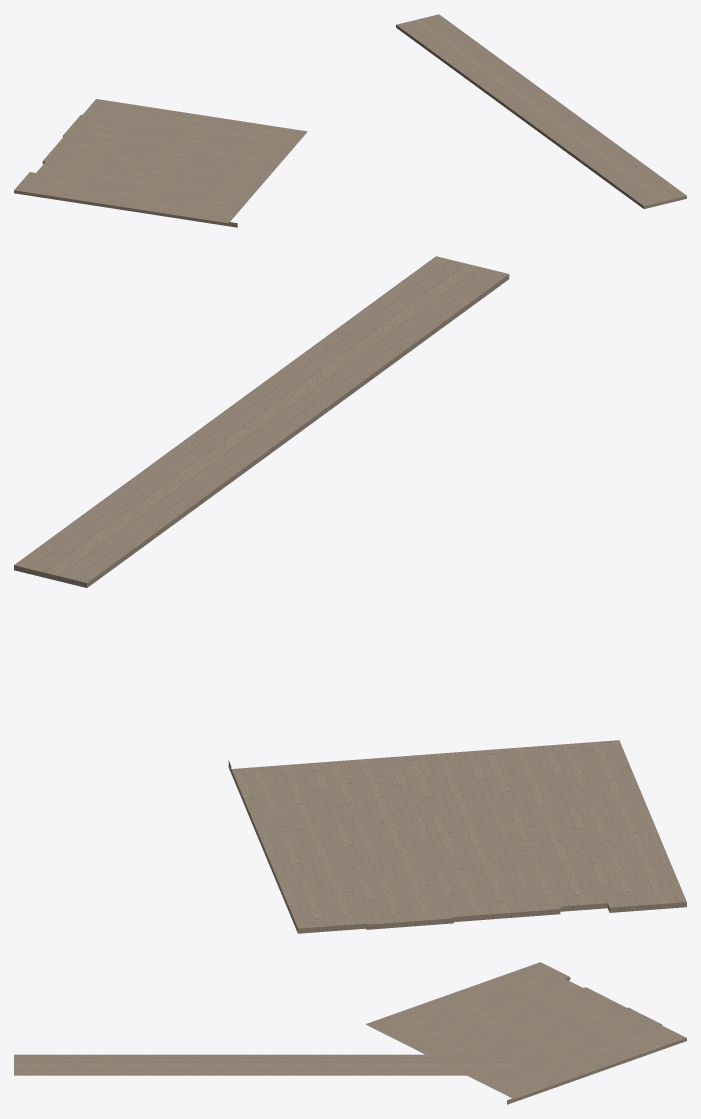
The model's file is kd_stage_136282_5_1.glb.
3 renders of one model, top to bottom at view 1: azimuth 30°, elevation 25°; view 2: azimuth 150°, elevation 25°; view 3: azimuth 270°, elevation 25°, orthographic. The views are drawn at different scales.
Visible parts, largest first — view 1: kd_stage_136282_5_1; view 2: kd_stage_136282_5_1; view 3: kd_stage_136282_5_1.
Part boxes in pixels (x1,y1,x2,y2): kd_stage_136282_5_1: (14, 14, 686, 227); kd_stage_136282_5_1: (14, 256, 686, 933); kd_stage_136282_5_1: (14, 962, 686, 1104).
Bounding box in the file's own units: 14.33 × 3 × 20.32.
Materials: 1 (1 with a texture image).
